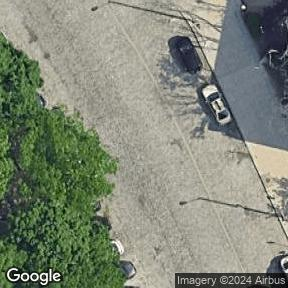vegetation: (0, 33, 123, 288)
